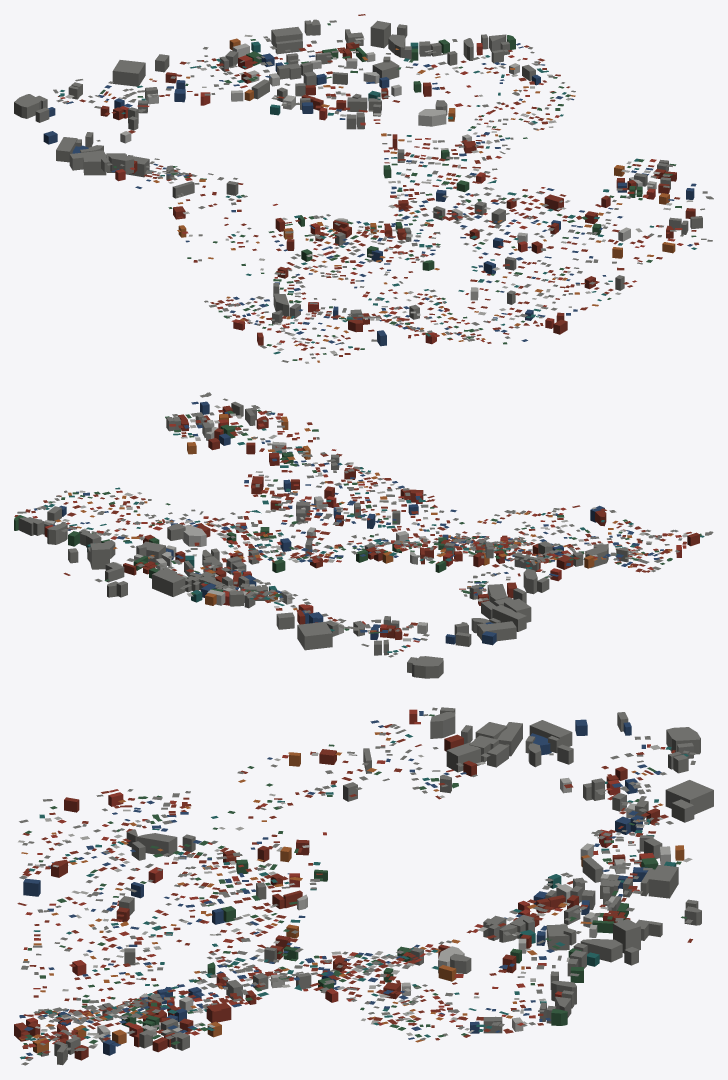
Rendered from far-15-27361-14870.33351bc8.glb.
The picture shows the model from 3 angles, top to bottom: view 1: azimuth 30°, elevation 25°; view 2: azimuth 150°, elevation 25°; view 3: azimuth 270°, elevation 25°; orthographic projection. The views are drawn at different scales.
Size of the model in its own units: 1209 by 304 by 1214.
